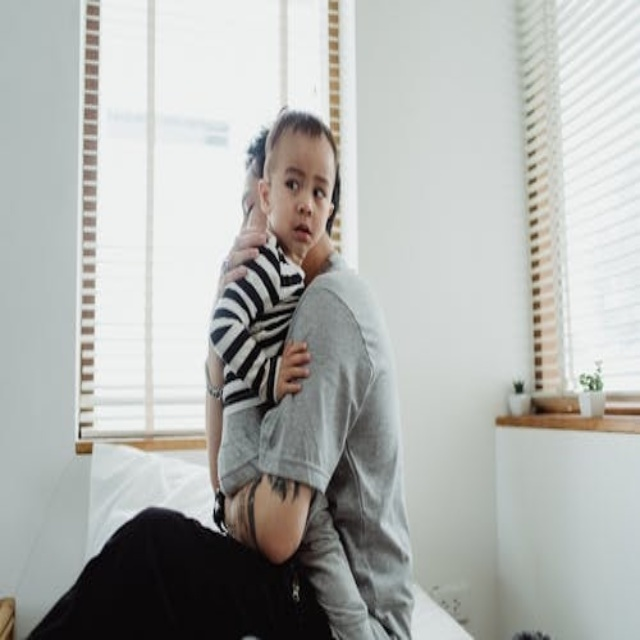Sin_gafas: (283, 161, 330, 206)
Sin_guantes: (273, 332, 315, 396)
Sin_mascara: (285, 219, 312, 244)
